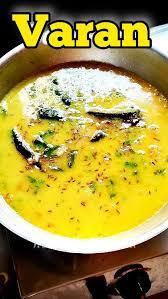varan: (9, 61, 168, 241)
